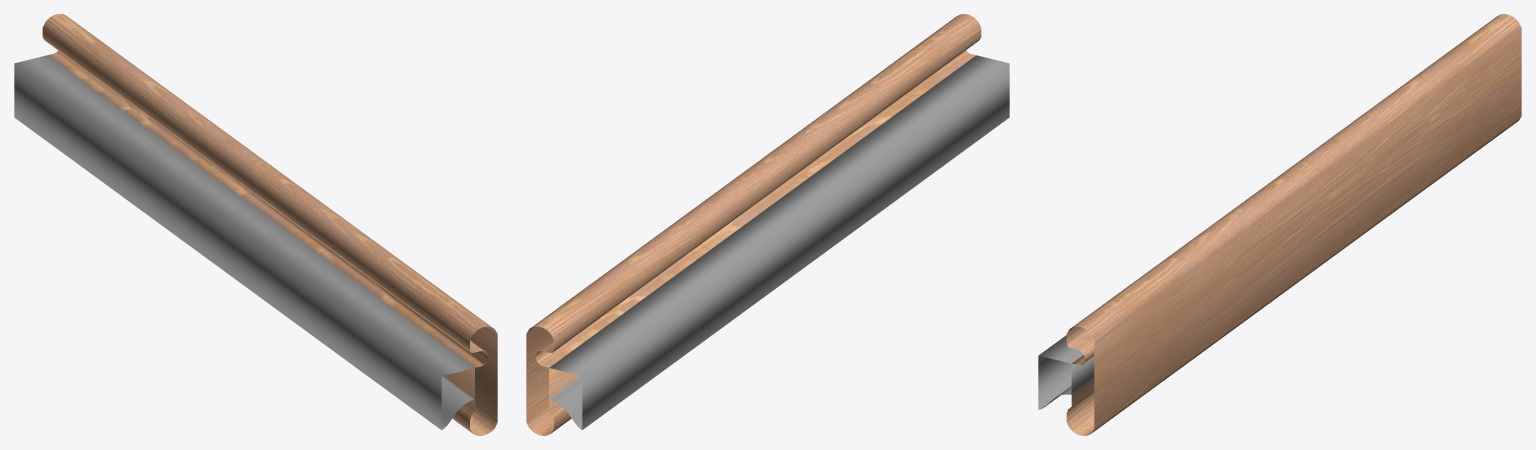
File: hospital_handrail.dae
The picture shows the model from 3 angles, left to right: view 1: azimuth 30°, elevation 25°; view 2: azimuth 150°, elevation 25°; view 3: azimuth 330°, elevation 25°; orthographic projection.
Parts seen in each view (by area): view 1: Support Curve, Handle Curve.001; view 2: Support Curve, Handle Curve.001; view 3: Handle Curve.001, Support Curve.
Boxes of the visible parts, box(x1,y1,x2,y2) form: Support Curve: box(14, 55, 474, 430); Handle Curve.001: box(42, 14, 497, 435); Support Curve: box(549, 55, 1009, 429); Handle Curve.001: box(526, 14, 981, 435); Handle Curve.001: box(1066, 14, 1521, 435); Support Curve: box(1038, 335, 1094, 409).
Size of the model in its own units: 0.0756 by 1 by 0.14.
